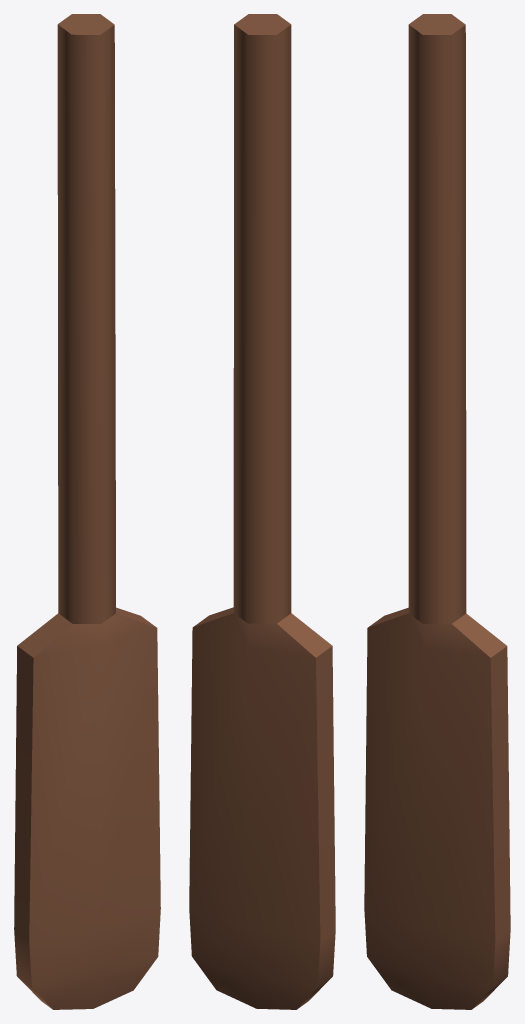
Rendered from Paddle.fbx.
The picture shows the model from 3 angles, left to right: view 1: azimuth 30°, elevation 25°; view 2: azimuth 150°, elevation 25°; view 3: azimuth 330°, elevation 25°; orthographic projection.
Parts seen in each view (by area): view 1: Paddle; view 2: Paddle; view 3: Paddle.
Boxes of the visible parts, <box> form: Paddle: <box>14,14,160,1009</box>; Paddle: <box>189,14,335,1009</box>; Paddle: <box>364,14,510,1009</box>.
Bounding box in the file's own units: 29.21 × 208 × 11.22.
